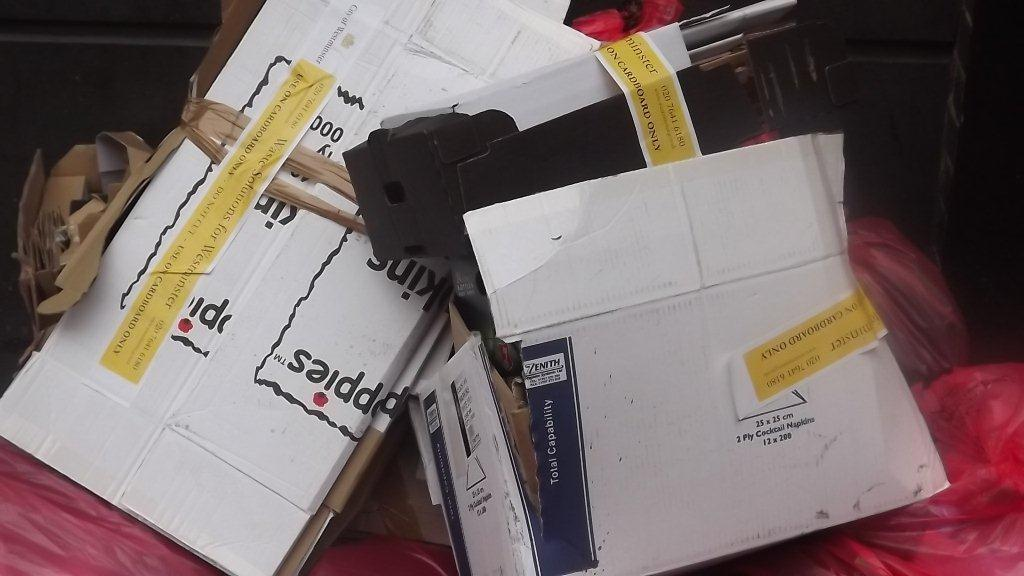cardboard: (0, 0, 450, 575), (465, 135, 945, 575)
